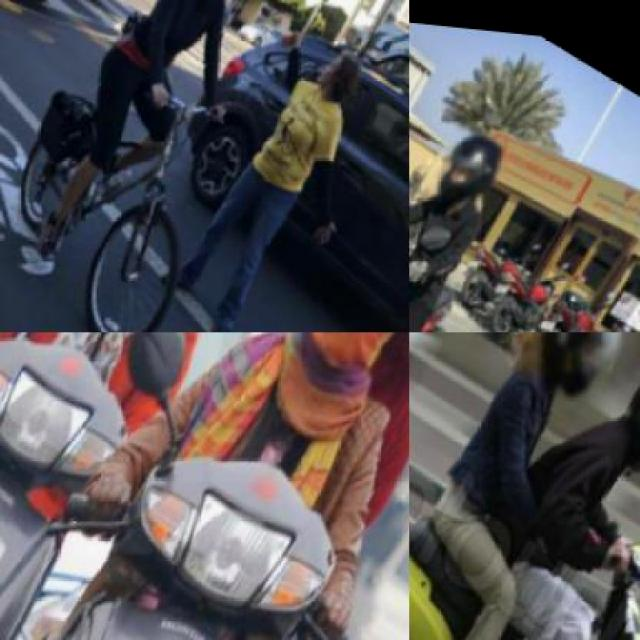With Helmet: (414, 105, 520, 226), (511, 332, 638, 416), (602, 332, 638, 488)
Without Helmet: (272, 332, 408, 410)
